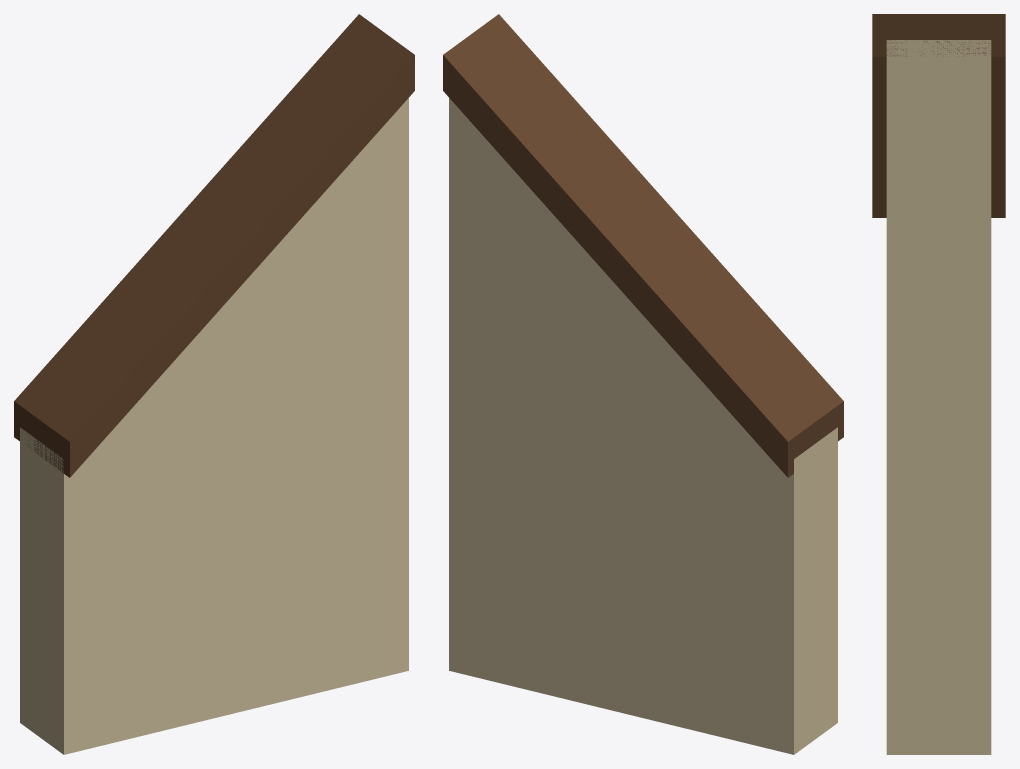
File: Gable1.fbx
3 renders of one model, left to right at view 1: azimuth 30°, elevation 25°; view 2: azimuth 150°, elevation 25°; view 3: azimuth 270°, elevation 25°, orthographic. The views are drawn at different scales.
Parts seen in each view (by area): view 1: Kit_Gable1; view 2: Kit_Gable1; view 3: Kit_Gable1.
Boxes of the visible parts, bbox=[...] form: Kit_Gable1: bbox=[14, 14, 414, 754]; Kit_Gable1: bbox=[443, 14, 843, 754]; Kit_Gable1: bbox=[872, 14, 1005, 754].
Size of the model in its own units: 1 by 1.72 by 0.28.
